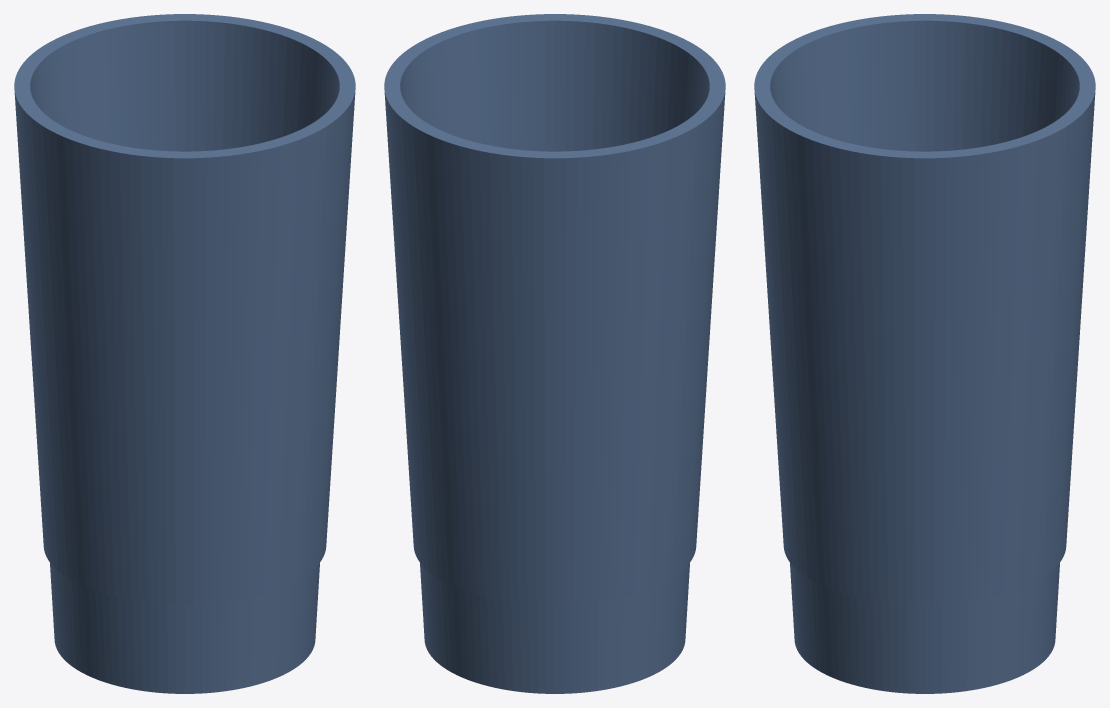
The model's file is blue_cup.glb.
3 views of the same model, side by side, from view 1: azimuth 30°, elevation 25°; view 2: azimuth 150°, elevation 25°; view 3: azimuth 270°, elevation 25° (orthographic).
Visible parts, largest first — view 1: geometry_0; view 2: geometry_0; view 3: geometry_0.
Part boxes in pixels (<box>): geometry_0: <box>14,14,355,693</box>; geometry_0: <box>384,14,725,693</box>; geometry_0: <box>754,14,1095,693</box>.
Size of the model in its own units: 0.0996 by 0.1779 by 0.0996.
